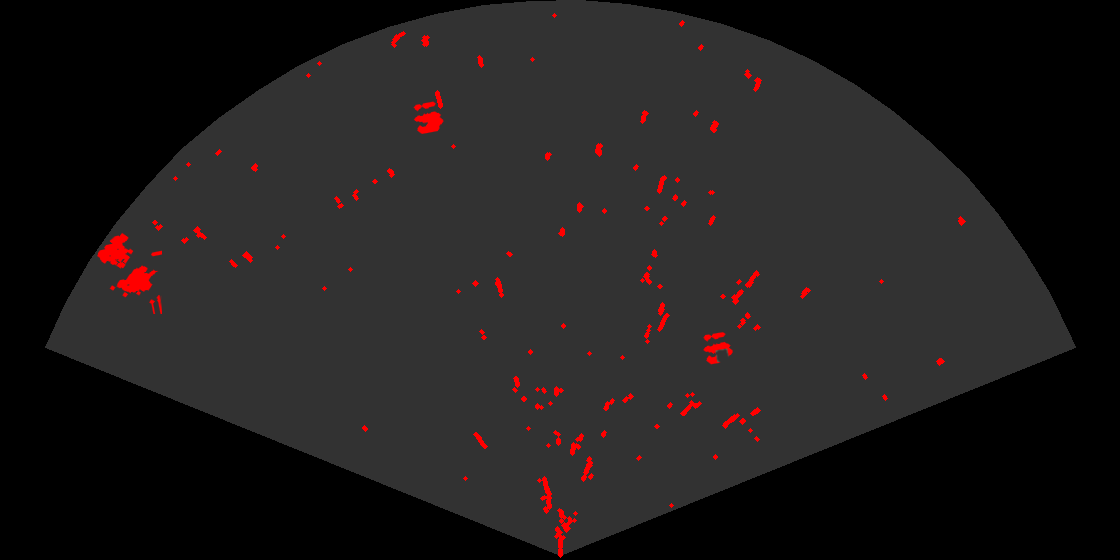ball: (412, 100, 445, 136), (702, 331, 734, 366)
cage: (96, 231, 162, 314)
